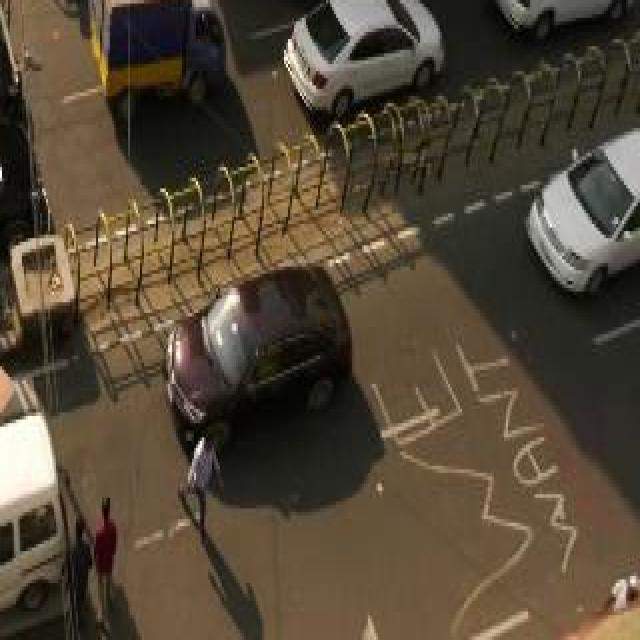car: (159, 260, 355, 432), (529, 125, 640, 298), (280, 0, 444, 117), (88, 0, 228, 117), (0, 409, 66, 636), (0, 135, 46, 295), (490, 0, 632, 39), (0, 21, 16, 139)
